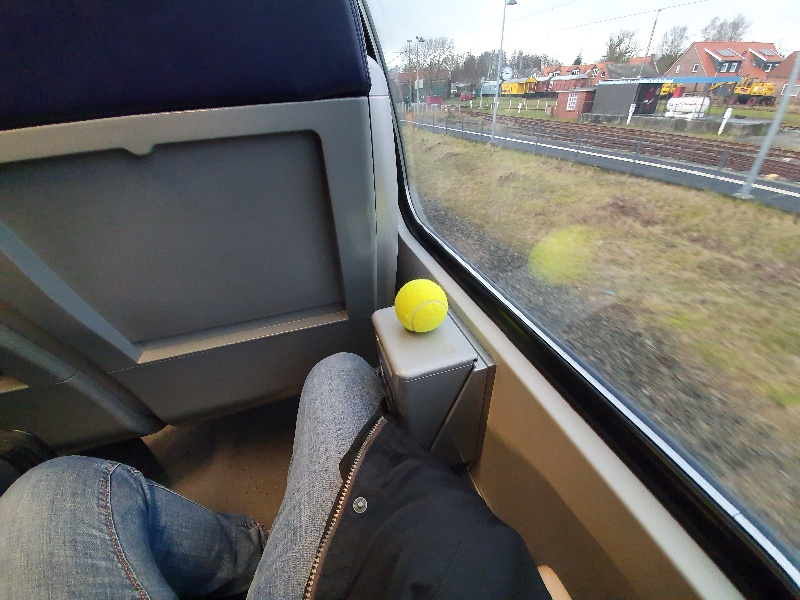Tennisball: (387, 276, 454, 338)
